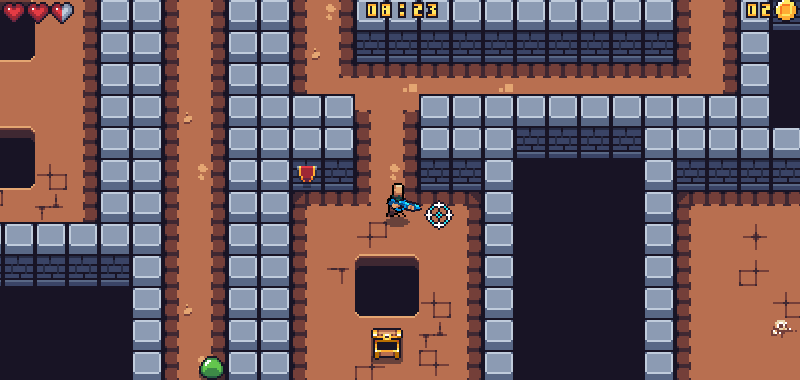enemy_slug: (197, 353, 224, 379)
treasury_open: (369, 324, 404, 362)
